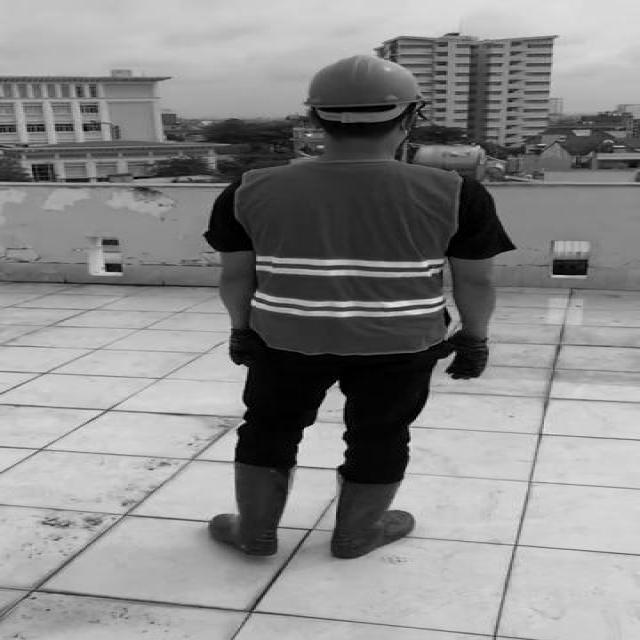boots: (207, 464, 300, 554), (326, 479, 414, 558)
hand_glove: (444, 336, 489, 380), (230, 329, 254, 366)
head_helmet: (298, 52, 431, 115)
person: (188, 51, 502, 573)
vest: (244, 160, 458, 353)
